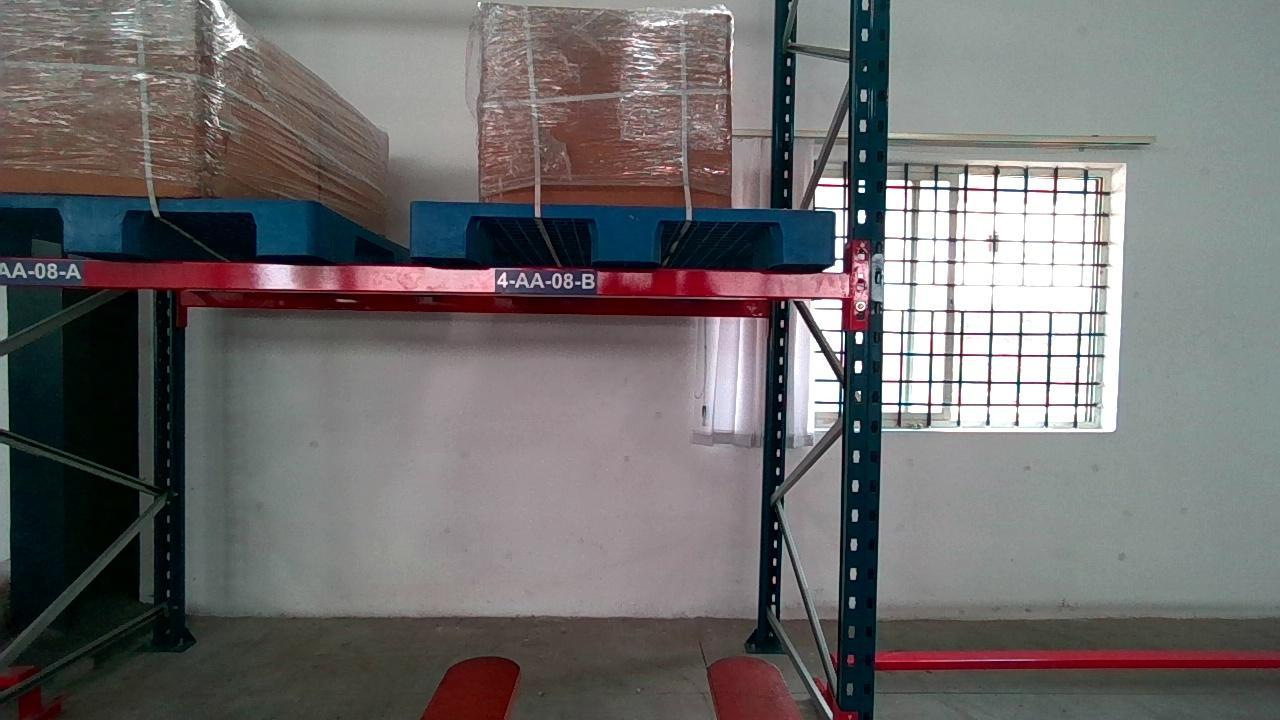h_rack: (6, 255, 849, 297)
small_pallet: (412, 200, 834, 268), (7, 194, 316, 259)
